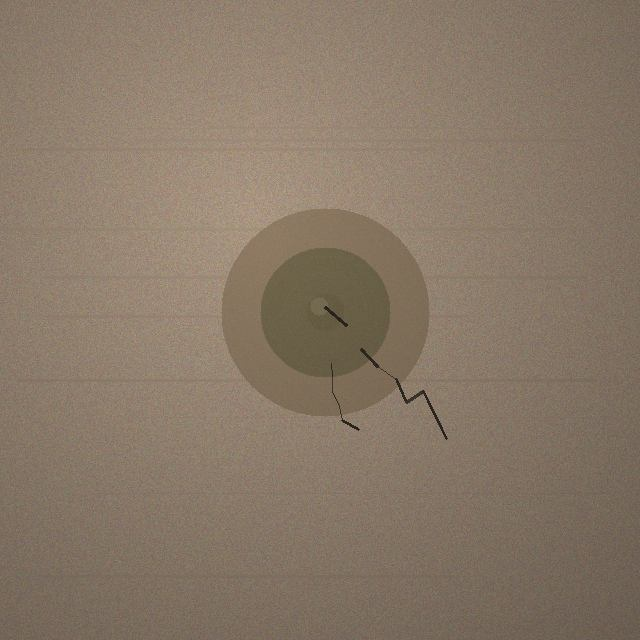crack: (221, 208, 429, 416)
